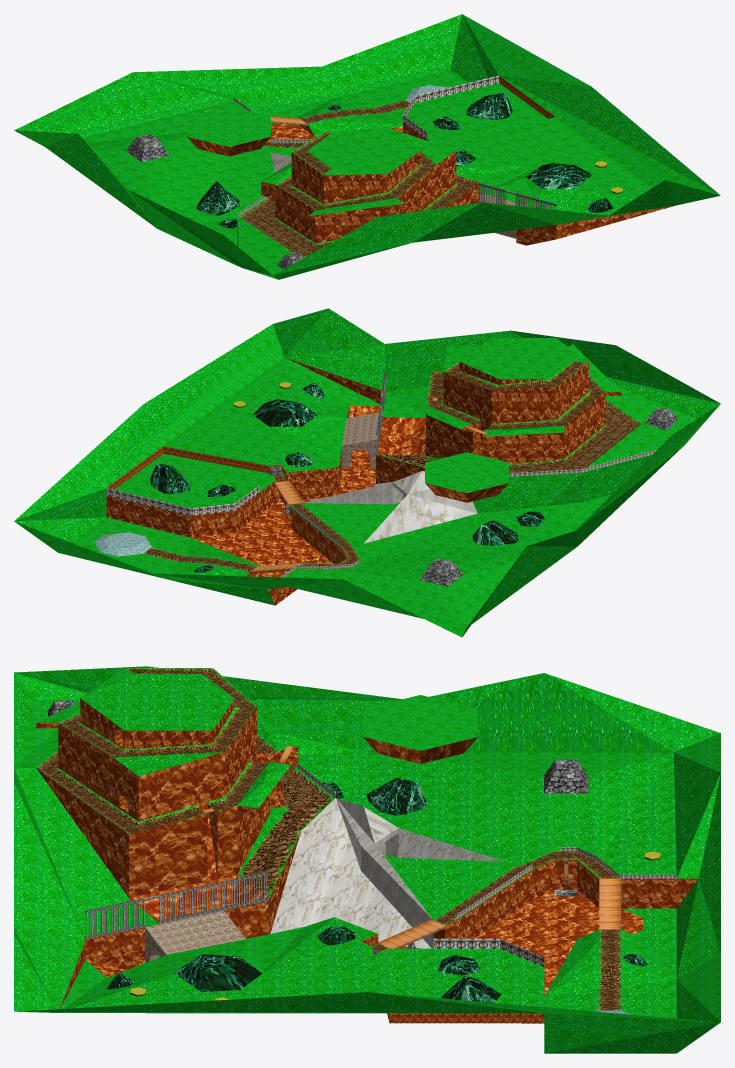
3 renders of one model, top to bottom at view 1: azimuth 30°, elevation 25°; view 2: azimuth 150°, elevation 25°; view 3: azimuth 270°, elevation 25°, orthographic. The views are drawn at different scales.
Parts seen in each view (by area): view 1: Shape_IndexedFaceSet.009, Shape_IndexedFaceSet.022, Shape_IndexedFaceSet.024, Shape_IndexedFaceSet.025, Shape_IndexedFaceSet.014, Shape_IndexedFaceSet.027, Shape_IndexedFaceSet.065, Shape_IndexedFaceSet.006, Shape_IndexedFaceSet.010, Shape_IndexedFaceSet.017, Shape_IndexedFaceSet.064; view 2: Shape_IndexedFaceSet.009, Shape_IndexedFaceSet.022, Shape_IndexedFaceSet.024, Shape_IndexedFaceSet.016, Shape_IndexedFaceSet.025, Shape_IndexedFaceSet.014, Shape_IndexedFaceSet.065, Shape_IndexedFaceSet.010, Shape_IndexedFaceSet.027, Shape_IndexedFaceSet.015, Shape_IndexedFaceSet.006, Shape_IndexedFaceSet.012 (+3 smaller); view 3: Shape_IndexedFaceSet.009, Shape_IndexedFaceSet.022, Shape_IndexedFaceSet.016, Shape_IndexedFaceSet.024, Shape_IndexedFaceSet.025, Shape_IndexedFaceSet.014, Shape_IndexedFaceSet.010, Shape_IndexedFaceSet.064, Shape_IndexedFaceSet.015, Shape_IndexedFaceSet.065, Shape_IndexedFaceSet.006, Shape_IndexedFaceSet.013 (+5 smaller).
Part boxes in pixels (box(x1,y1,x2,y2)): Shape_IndexedFaceSet.009: box(14, 14, 720, 279); Shape_IndexedFaceSet.022: box(187, 76, 674, 245); Shape_IndexedFaceSet.024: box(262, 126, 455, 215); Shape_IndexedFaceSet.025: box(239, 130, 478, 252); Shape_IndexedFaceSet.014: box(196, 104, 613, 228); Shape_IndexedFaceSet.027: box(244, 200, 328, 256); Shape_IndexedFaceSet.065: box(233, 75, 498, 247); Shape_IndexedFaceSet.006: box(433, 92, 512, 129); Shape_IndexedFaceSet.010: box(263, 100, 409, 148); Shape_IndexedFaceSet.017: box(126, 134, 459, 162); Shape_IndexedFaceSet.064: box(479, 185, 555, 209); Shape_IndexedFaceSet.009: box(14, 308, 720, 637); Shape_IndexedFaceSet.022: box(106, 358, 621, 605); Shape_IndexedFaceSet.024: box(414, 338, 620, 459); Shape_IndexedFaceSet.016: box(302, 471, 477, 543); Shape_IndexedFaceSet.025: box(376, 360, 641, 468); Shape_IndexedFaceSet.014: box(194, 383, 545, 572); Shape_IndexedFaceSet.065: box(106, 449, 656, 577); Shape_IndexedFaceSet.010: box(143, 474, 361, 572); Shape_IndexedFaceSet.027: box(509, 403, 636, 472); Shape_IndexedFaceSet.015: box(342, 412, 381, 468); Shape_IndexedFaceSet.006: box(150, 463, 235, 496); Shape_IndexedFaceSet.012: box(94, 532, 151, 556); Shape_IndexedFaceSet.009: box(14, 666, 720, 1053); Shape_IndexedFaceSet.022: box(36, 698, 698, 1023); Shape_IndexedFaceSet.016: box(270, 798, 504, 948); Shape_IndexedFaceSet.024: box(37, 668, 297, 873); Shape_IndexedFaceSet.025: box(36, 668, 333, 899); Shape_IndexedFaceSet.014: box(107, 778, 647, 991); Shape_IndexedFaceSet.010: box(372, 850, 621, 1010); Shape_IndexedFaceSet.064: box(86, 875, 267, 936); Shape_IndexedFaceSet.015: box(145, 910, 245, 962); Shape_IndexedFaceSet.065: box(295, 764, 676, 966); Shape_IndexedFaceSet.006: box(438, 955, 501, 1002); Shape_IndexedFaceSet.013: box(85, 872, 577, 948).
Size of the model in its own units: 16.39 by 4.32 by 16.38.
Materials: 22 (22 with a texture image).
